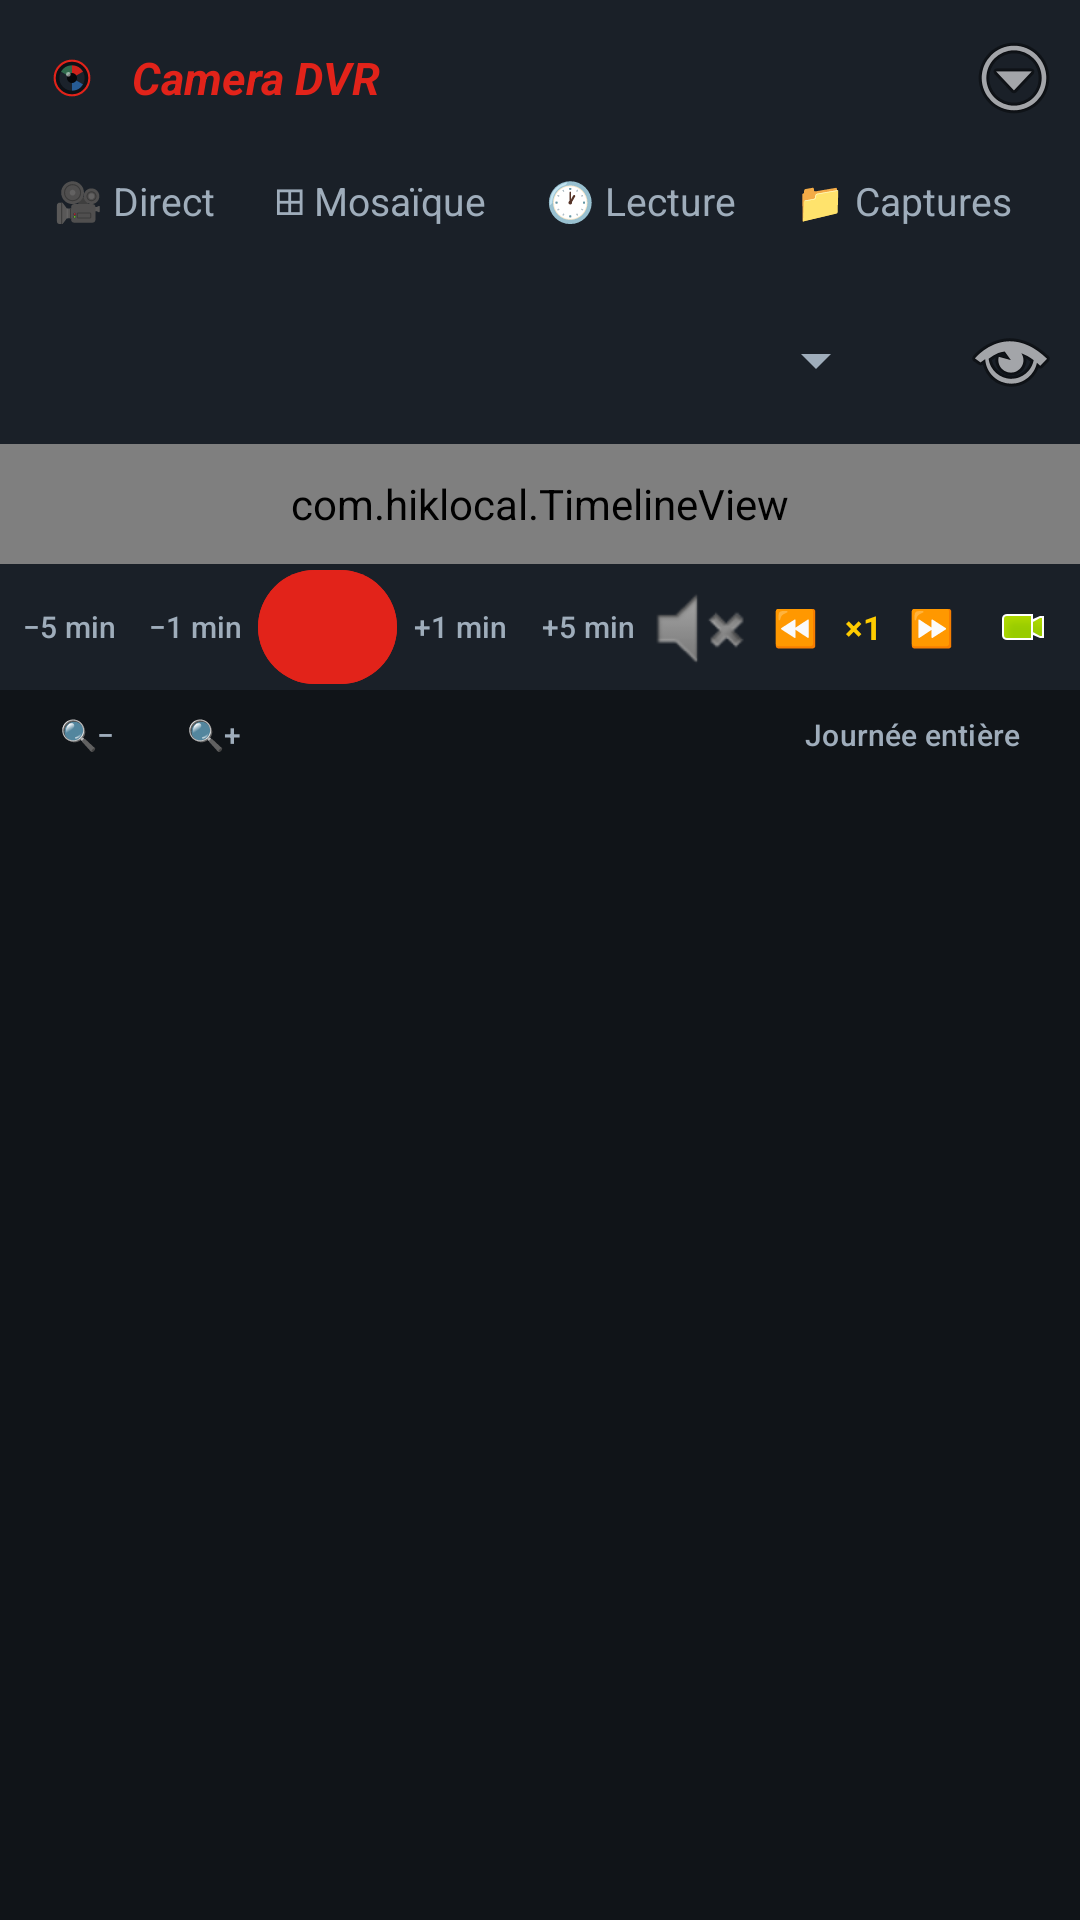

Icons on this 1080w x 1920h Android screen, each with the point to tap as [x,y]:
Menu: [1014,78]
Son: [700,629]
